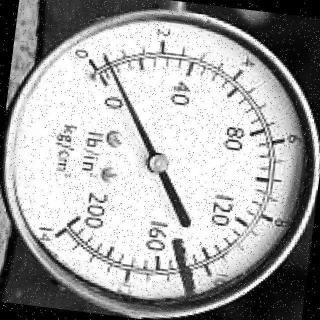gauge: (0, 0, 320, 320), (65, 43, 135, 109), (41, 199, 98, 255), (146, 152, 170, 175), (98, 49, 114, 65)
